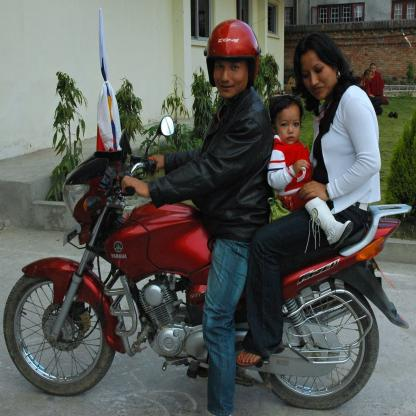Helmet: (202, 17, 266, 95)
